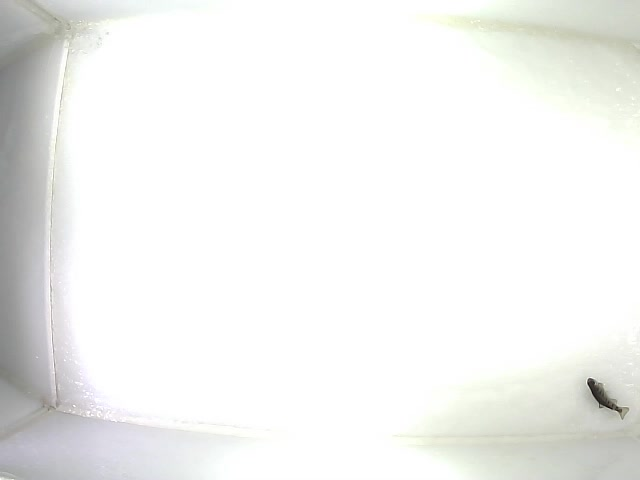fish: (585, 376, 631, 421)
